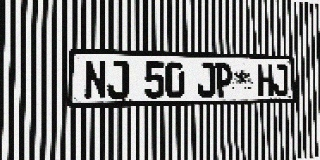0: (165, 62, 184, 98)
5: (145, 61, 165, 99)
H: (258, 64, 273, 96)
J: (107, 60, 129, 99), (197, 62, 215, 98), (273, 64, 288, 96)
N: (84, 60, 107, 100)
P: (215, 63, 232, 97)
